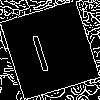I: (24, 25, 53, 73)
